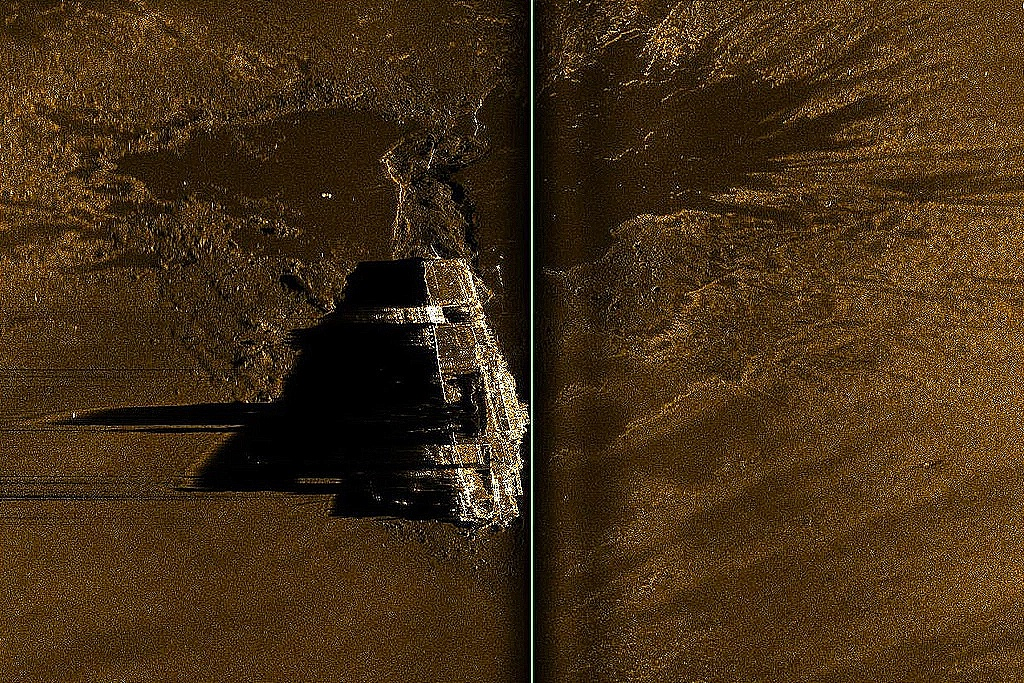ship: (367, 254, 532, 534)
